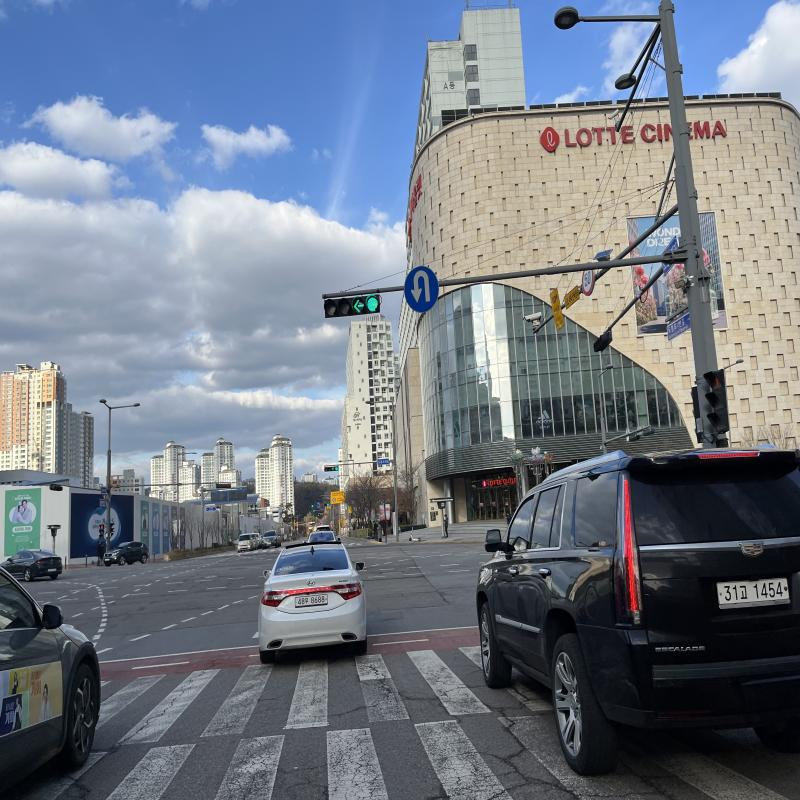green: (365, 296, 379, 313)
left: (352, 297, 365, 315)
